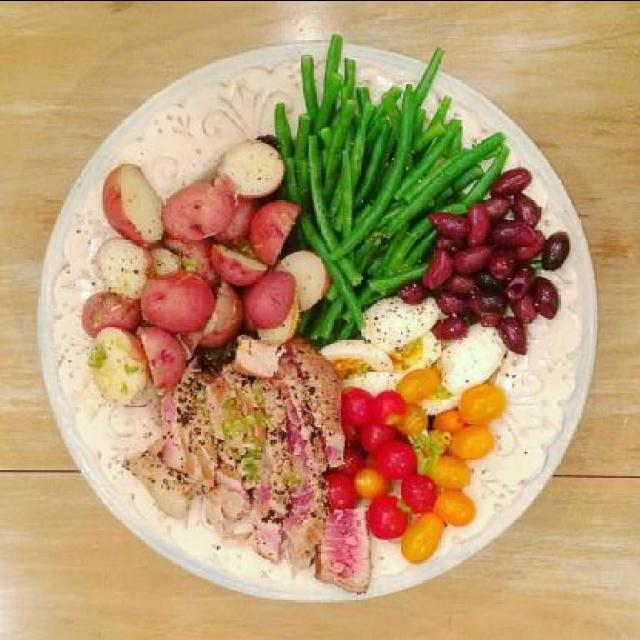Salad: (70, 25, 579, 598)
